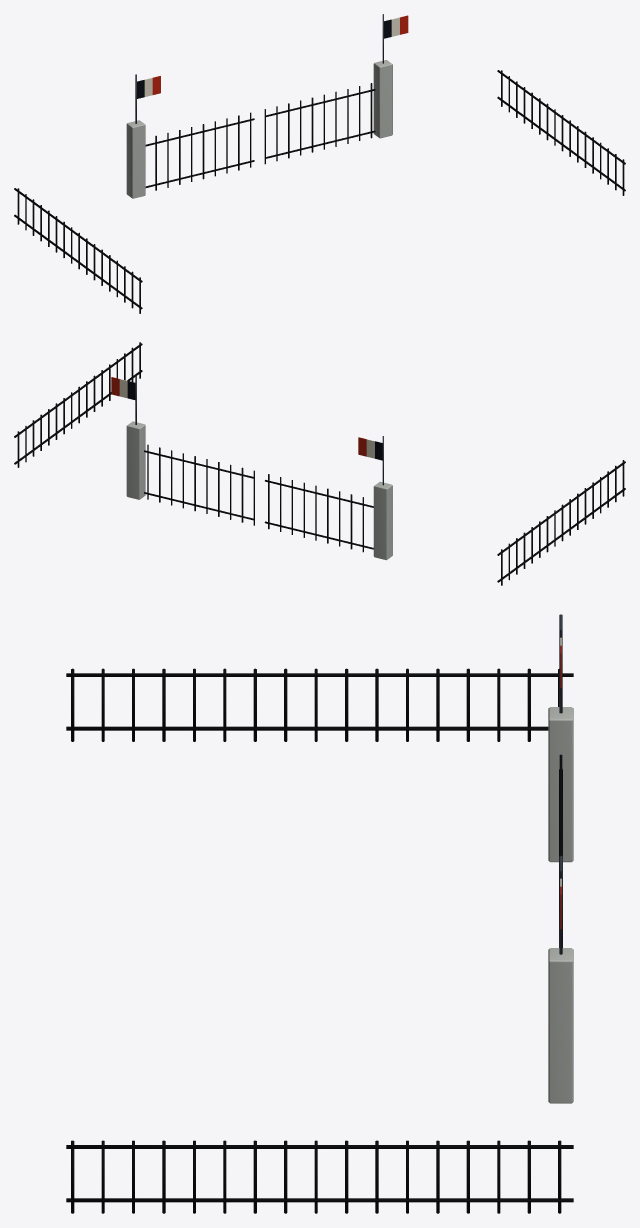
Rendered from prefecture-forecourt.glb.
3 renders of one model, top to bottom at view 1: azimuth 30°, elevation 25°; view 2: azimuth 150°, elevation 25°; view 3: azimuth 270°, elevation 25°, orthographic. The views are drawn at different scales.
Parts seen in each view (by area): view 1: prefecture-forecourt; view 2: prefecture-forecourt; view 3: prefecture-forecourt.
Boxes of the visible parts, x1,y1,x2,y2 form: prefecture-forecourt: [14, 14, 625, 313]; prefecture-forecourt: [14, 342, 625, 585]; prefecture-forecourt: [66, 614, 573, 1213].
Bounding box in the file's own units: 17.67 × 4.2 × 8.
1 material, 1 textured.
